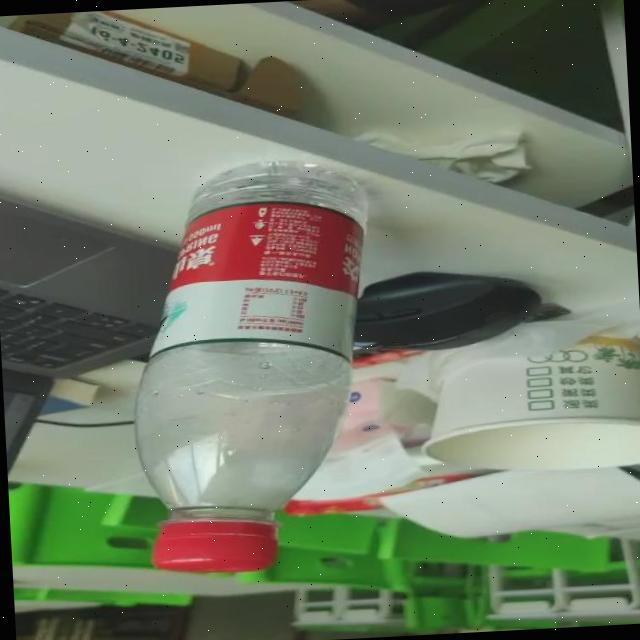bottle: (116, 163, 418, 576)
cap: (150, 510, 291, 572)
label: (152, 202, 410, 364)
